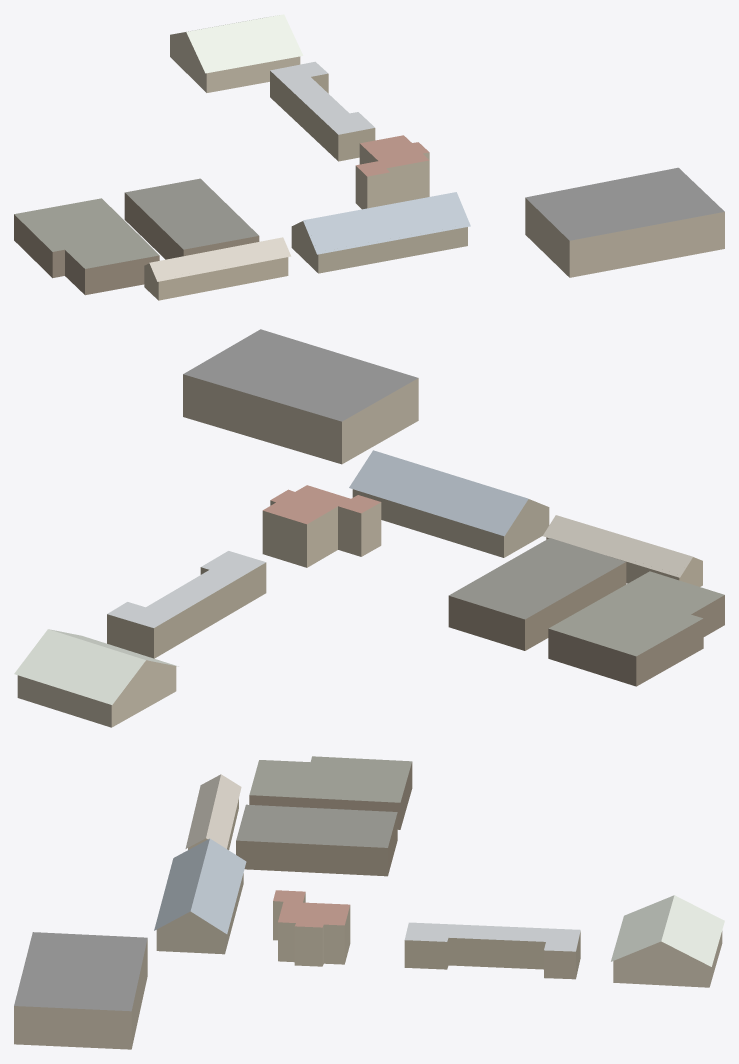
The picture shows the model from 3 angles, top to bottom: view 1: azimuth 30°, elevation 25°; view 2: azimuth 150°, elevation 25°; view 3: azimuth 270°, elevation 25°; orthographic projection. The views are drawn at different scales.
Visible parts, largest first — view 1: tuile; view 2: tuile; view 3: tuile.
Boxes of the visible parts, x1,y1,x2,y2 form: tuile: (14, 14, 724, 300); tuile: (14, 329, 724, 727); tuile: (14, 756, 724, 1049).
Size of the model in its own units: 92.49 by 7.48 by 102.
